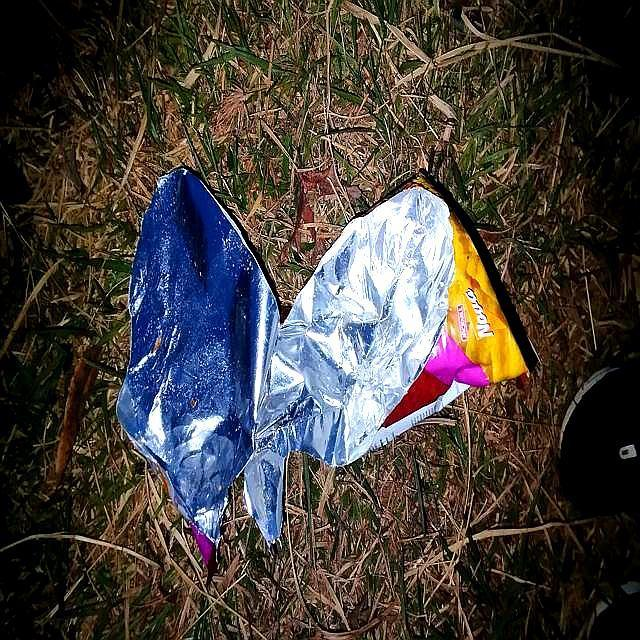Non-biodegradable: (115, 164, 540, 575)
